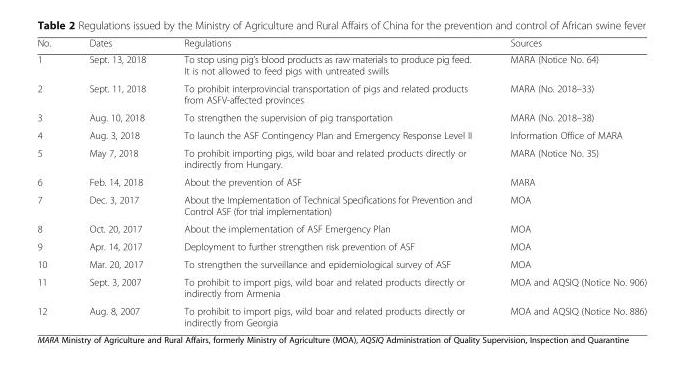table: (36, 36, 646, 327)
table column: (164, 36, 490, 327), (490, 36, 646, 327), (69, 36, 164, 327), (36, 36, 69, 327)
table column header: (36, 36, 646, 50)
table row: (36, 50, 646, 79), (36, 79, 646, 108), (36, 143, 646, 172), (36, 190, 646, 219), (36, 272, 646, 301), (36, 301, 646, 327), (36, 108, 646, 126), (36, 172, 646, 190), (36, 219, 646, 237), (36, 254, 646, 272), (36, 126, 646, 143), (36, 237, 646, 254), (36, 36, 646, 50)
